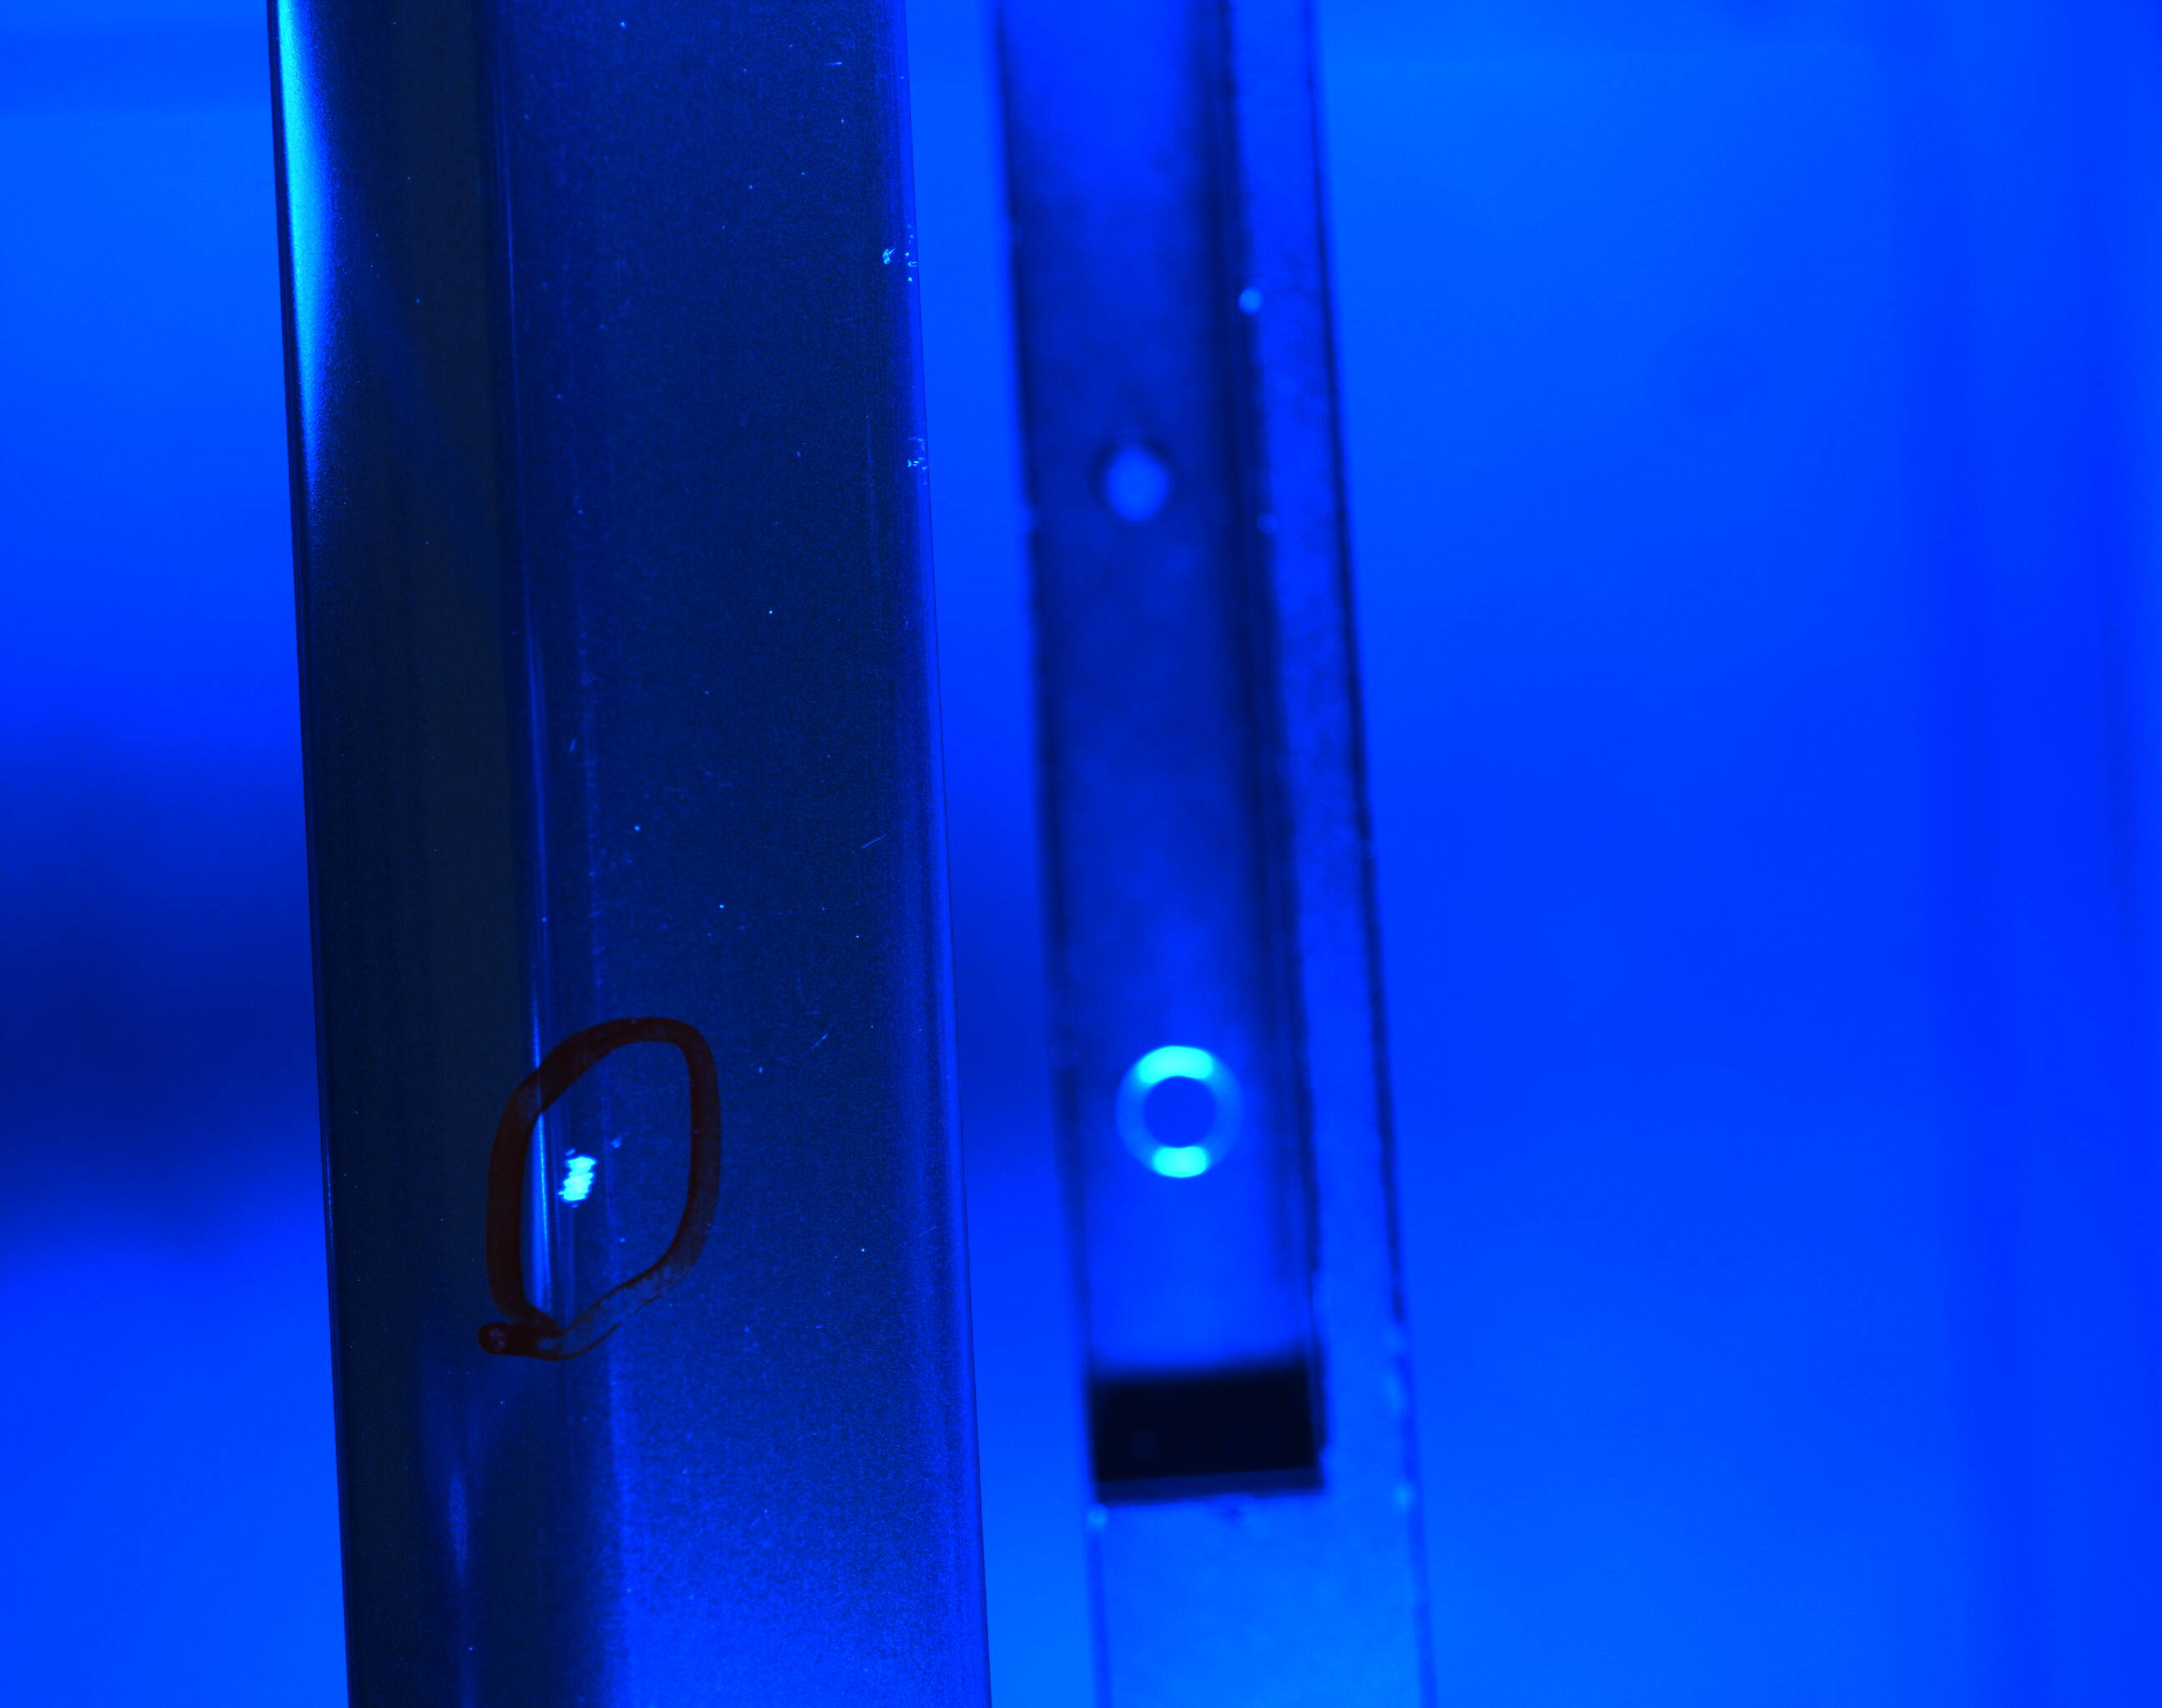NG: (546, 1134, 625, 1276)
